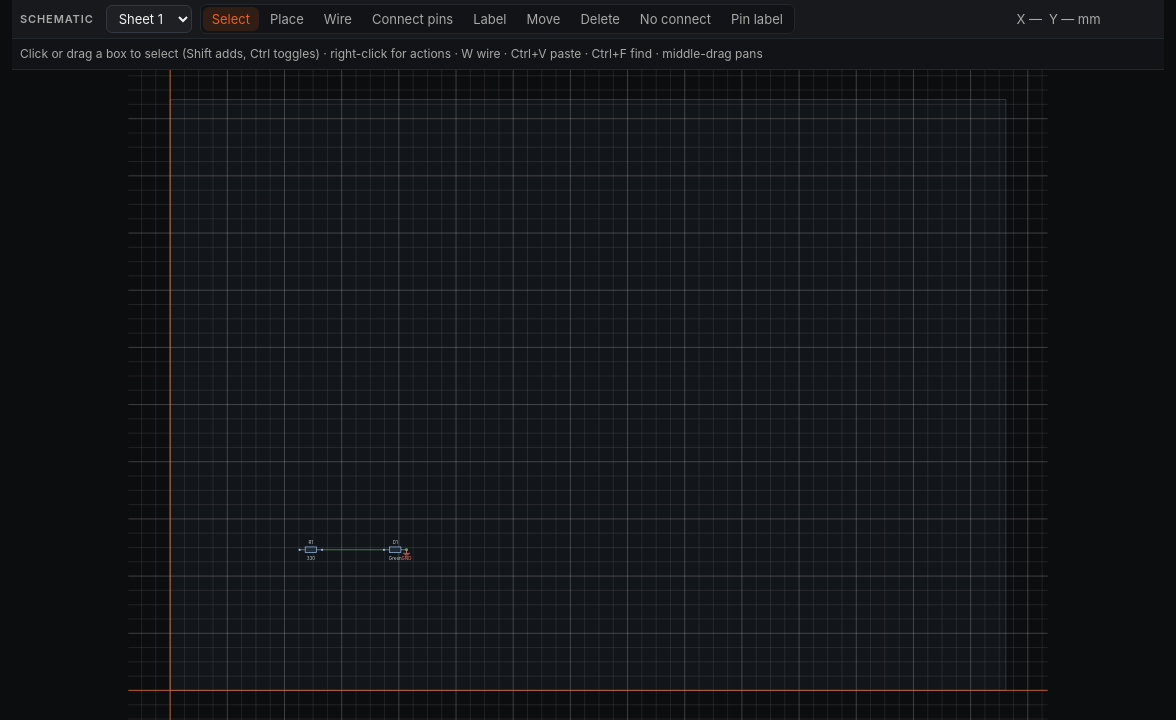
Test case: slice B3 editing set in the schematic editor › Ctrl+F opens find and replace; Replace all is one engine command for every match
This screenshot has width=1176, height=720.
Later steps or results of the test are not shown.
Press f
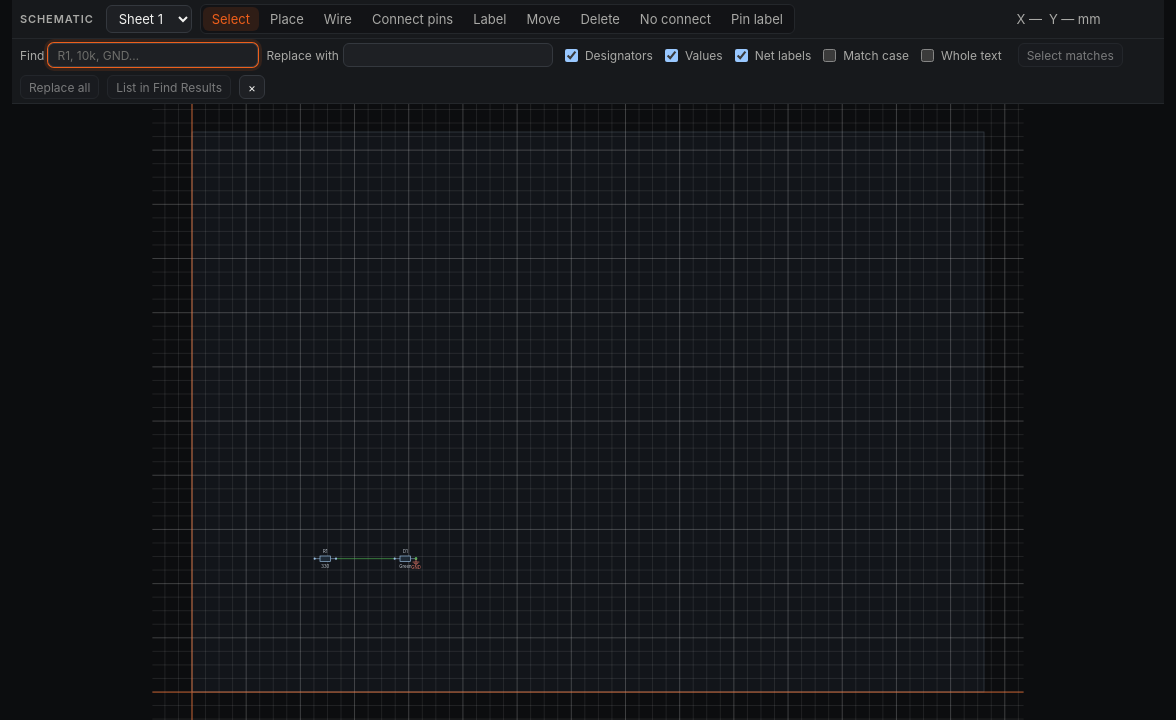
Type "1" into the field labelled "Find" at (153, 55), box [48,43,258,67]
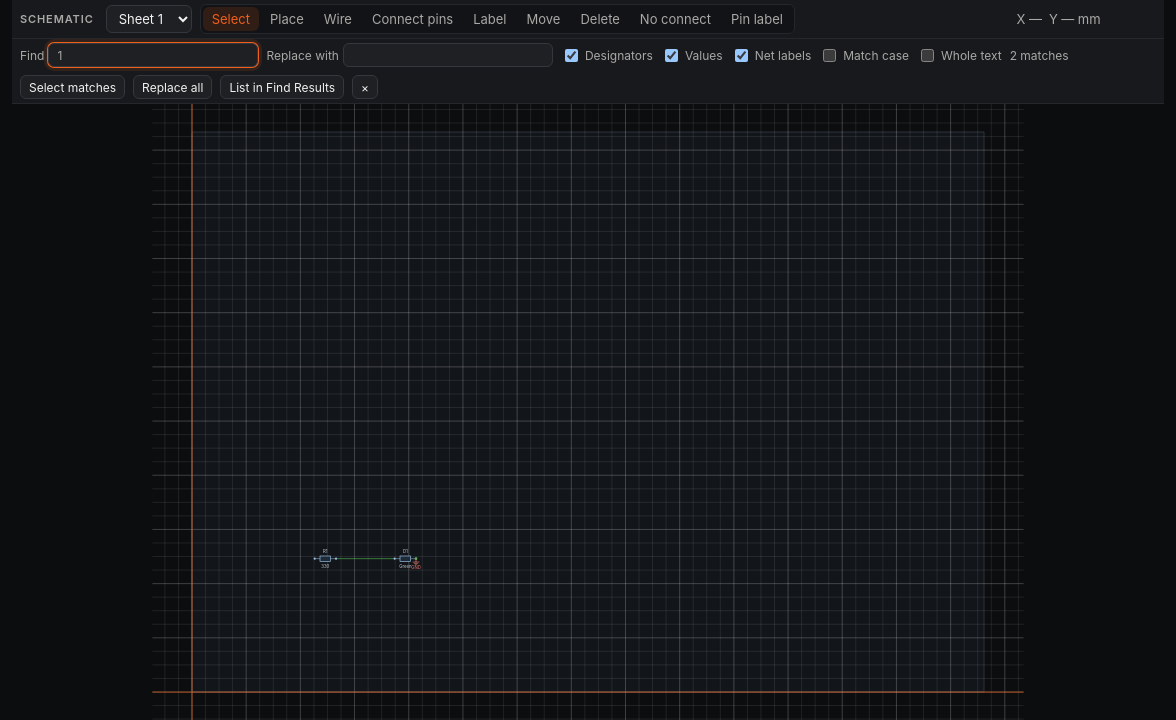
Type "5" into the field labelled "Replace with" at (448, 55), box [343,43,553,67]
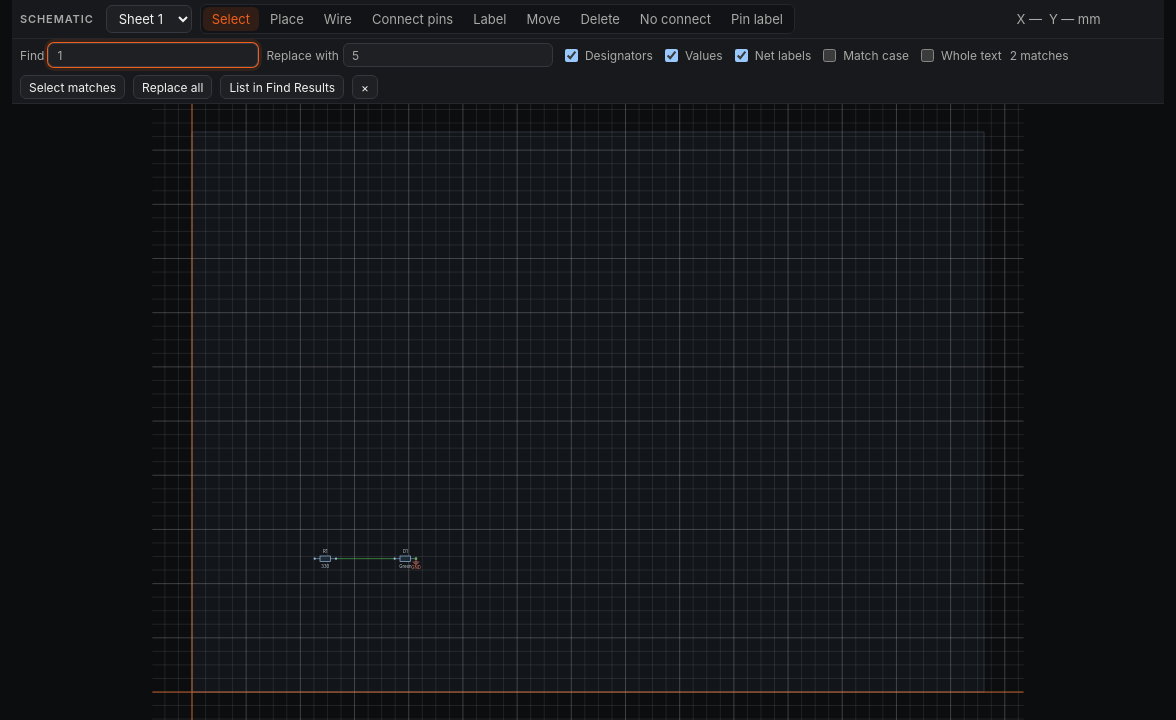
Click the checkbox labelled "Values" at (671, 55), box [665,48,678,62]
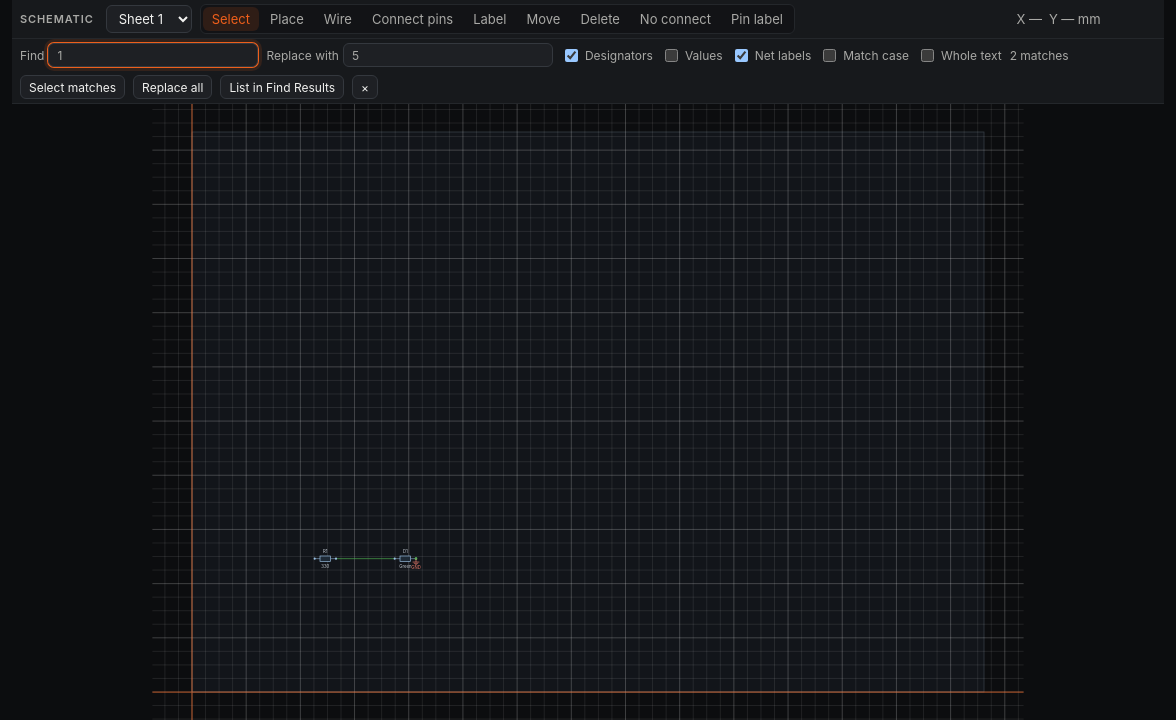
Click the checkbox labelled "Net labels" at (741, 55), box [735,48,748,62]
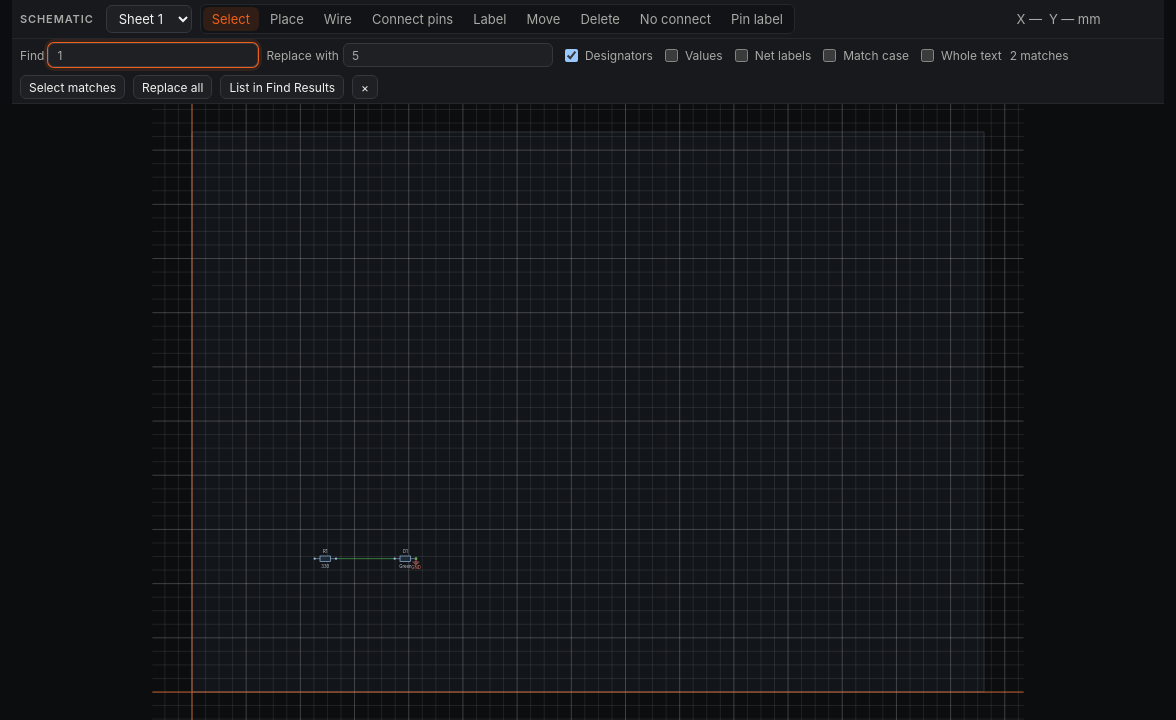
Check: the message reads "2 matches", box [1010,48,1069,62]
